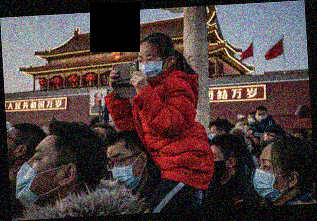mask_weared_incorrect: (258, 131, 275, 150)
with_mask: (15, 144, 65, 207), (253, 153, 289, 201), (105, 151, 145, 190), (136, 50, 167, 80), (210, 146, 230, 178), (209, 126, 221, 141), (253, 111, 267, 121), (247, 114, 254, 124)
